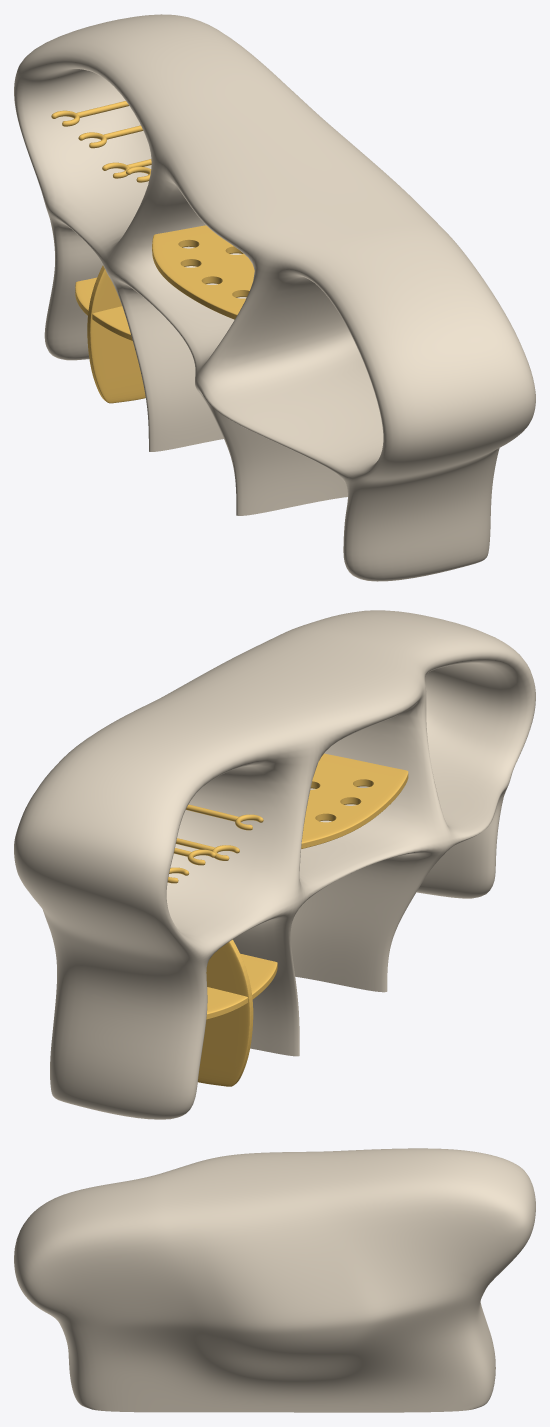
The model's file is reserve_2.fbx.
3 views of the same model, one above another, from view 1: azimuth 30°, elevation 25°; view 2: azimuth 150°, elevation 25°; view 3: azimuth 270°, elevation 25° (orthographic). The views are drawn at different scales.
Parts seen in each view (by area): view 1: Cube.002, Cube.003, Cube.005, Cube.004; view 2: Cube.002, Cube.003, Cube.005, Cube.004, Torus.004; view 3: Cube.002.
Part boxes in pixels (x1,y1,x2,y2): Cube.002: [14, 14, 535, 581]; Cube.003: [152, 225, 254, 319]; Cube.005: [87, 265, 145, 403]; Cube.004: [75, 277, 132, 340]; Cube.002: [14, 610, 535, 1119]; Cube.003: [301, 753, 408, 848]; Cube.005: [198, 939, 253, 1086]; Cube.004: [206, 953, 277, 1019]; Torus.004: [186, 804, 263, 830]; Cube.002: [14, 1148, 535, 1412].
Bounding box in the file's own units: 411 × 477 × 991.
